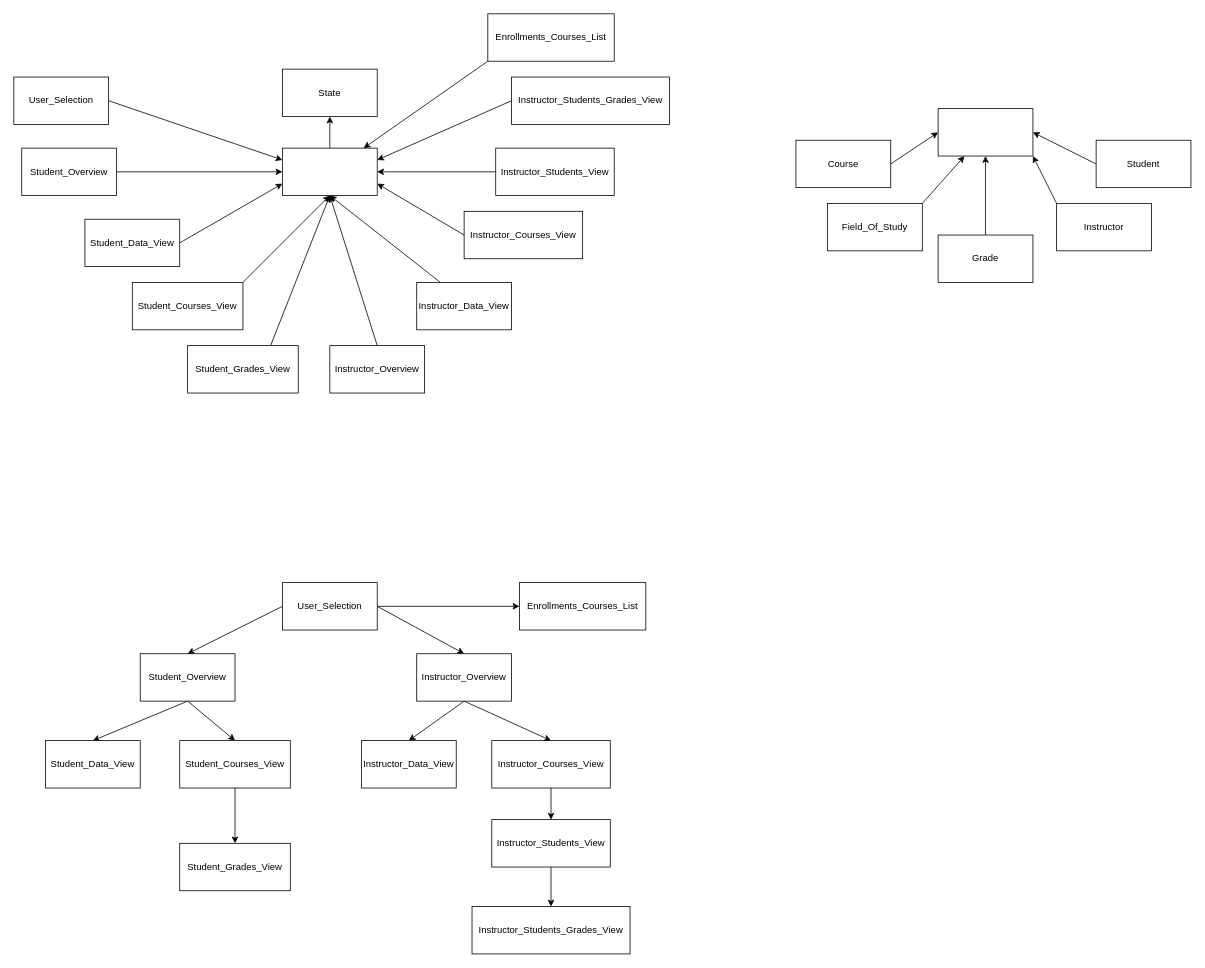
This 1205x968 diagram has some shape labels left out. The shapes that lost their labels are listed below. From the top down, each one's centre as x and y in pixels, then its label:
the point at 985,132: Database_Element
the point at 329,171: Basic_Menu_State
